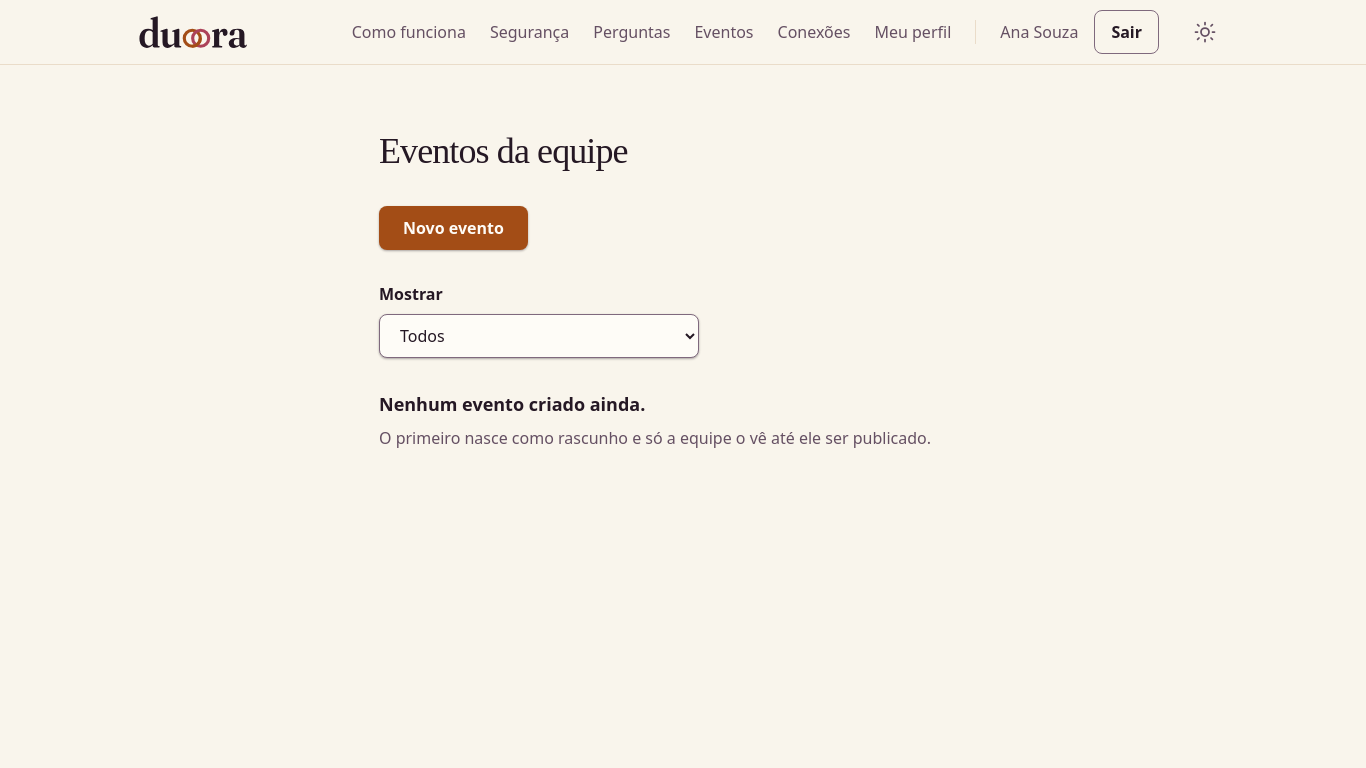
Test: admin events page › goes to the new event form
Click the link "Novo evento" at (453, 228), box [379,206,528,250]
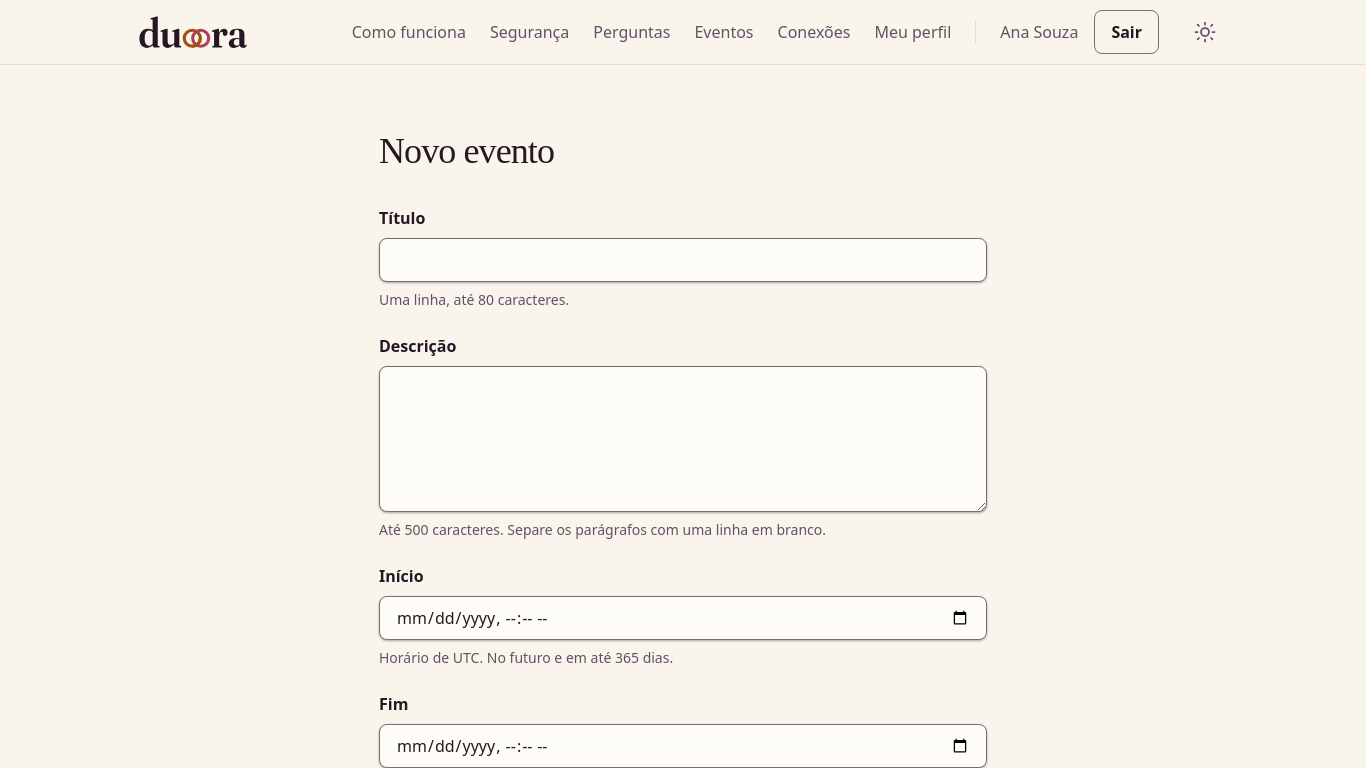
Now the heading "Novo evento" is shown, box [379,131,554,171]
